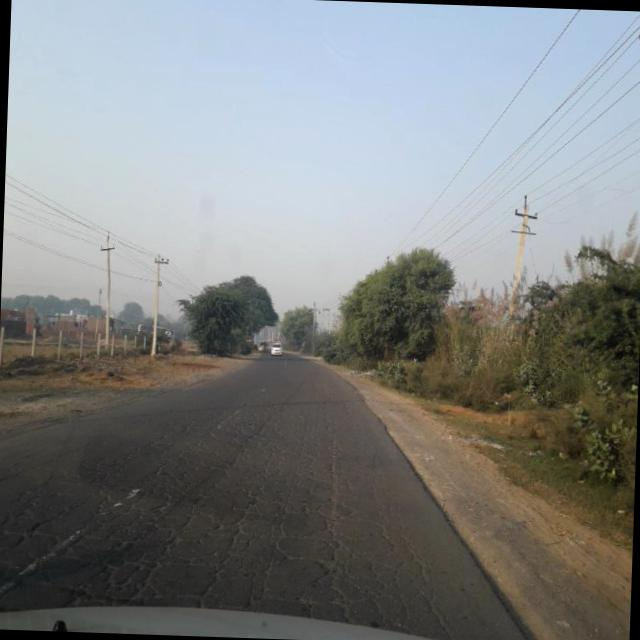crack: (0, 382, 432, 616)
